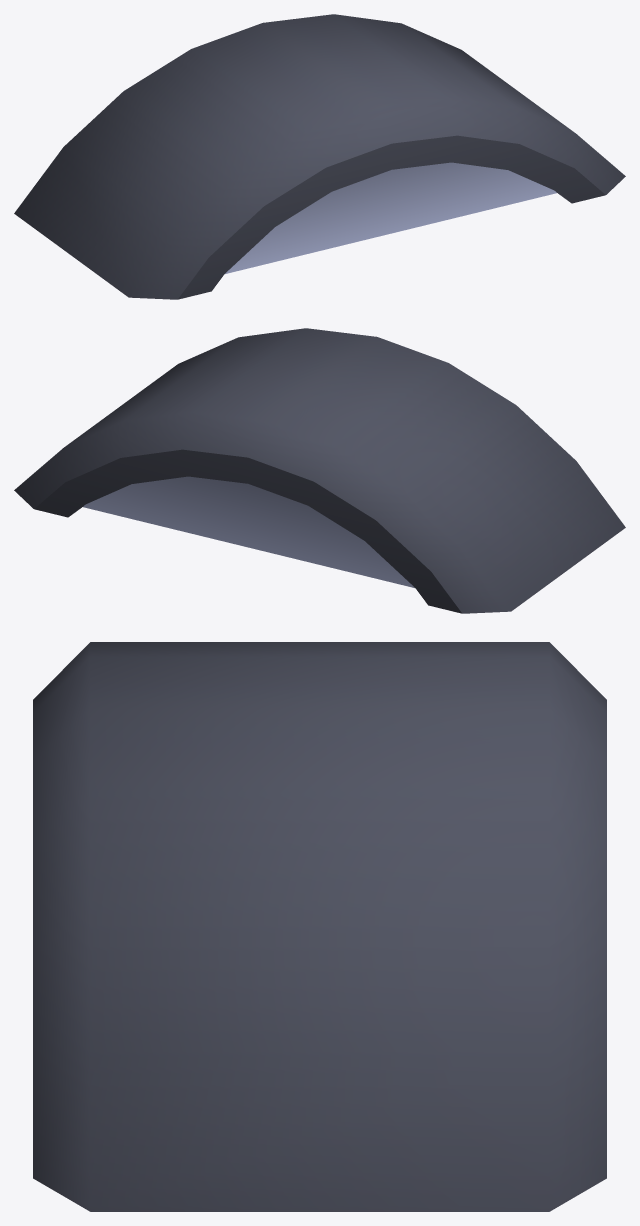
Rendered from block-snow-curve-low.glb.
3 renders of one model, top to bottom at view 1: azimuth 30°, elevation 25°; view 2: azimuth 150°, elevation 25°; view 3: azimuth 270°, elevation 25°, orthographic. The views are drawn at different scales.
Parts seen in each view (by area): view 1: block-snow-curve-low; view 2: block-snow-curve-low; view 3: block-snow-curve-low.
Part boxes in pixels (x1,y1,x2,y2): block-snow-curve-low: (14,14,625,299); block-snow-curve-low: (14,328,625,613); block-snow-curve-low: (33,642,606,1211).
Bounding box in the file's own units: 2 × 0.5 × 1.
